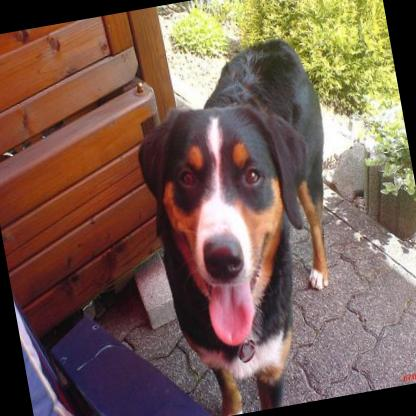Appenzeller: (118, 25, 370, 416)
